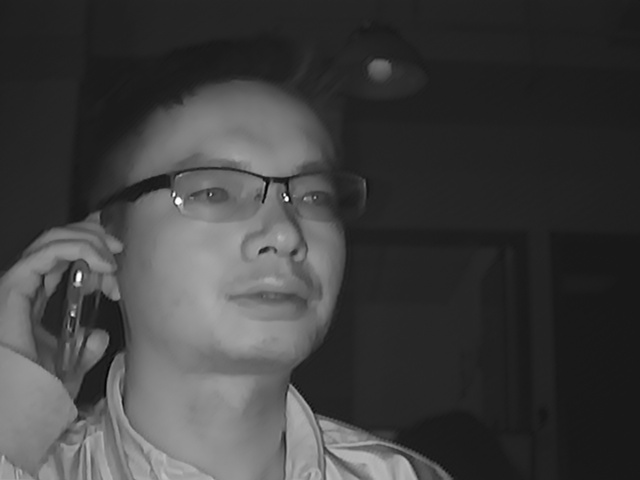hand: (6, 219, 124, 381)
